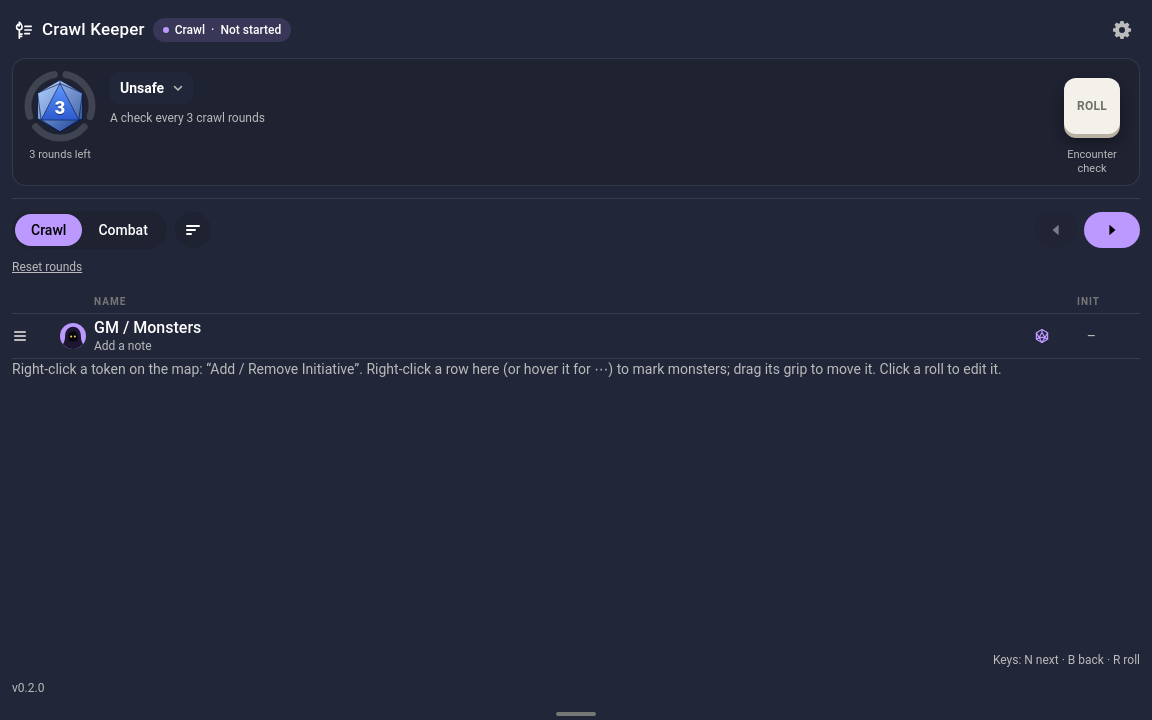
Tracker (GM) › the crawl card › sits in the top bar with the title, not in the list; not there in Settings
The image size is (1152, 720).
Expected: the header named "Encounter checks" shows "Crawl Keeper", [42,19,145,39]
Step 1. Click the button named "Settings" → click(1122, 30), box [1104,12,1140,48]
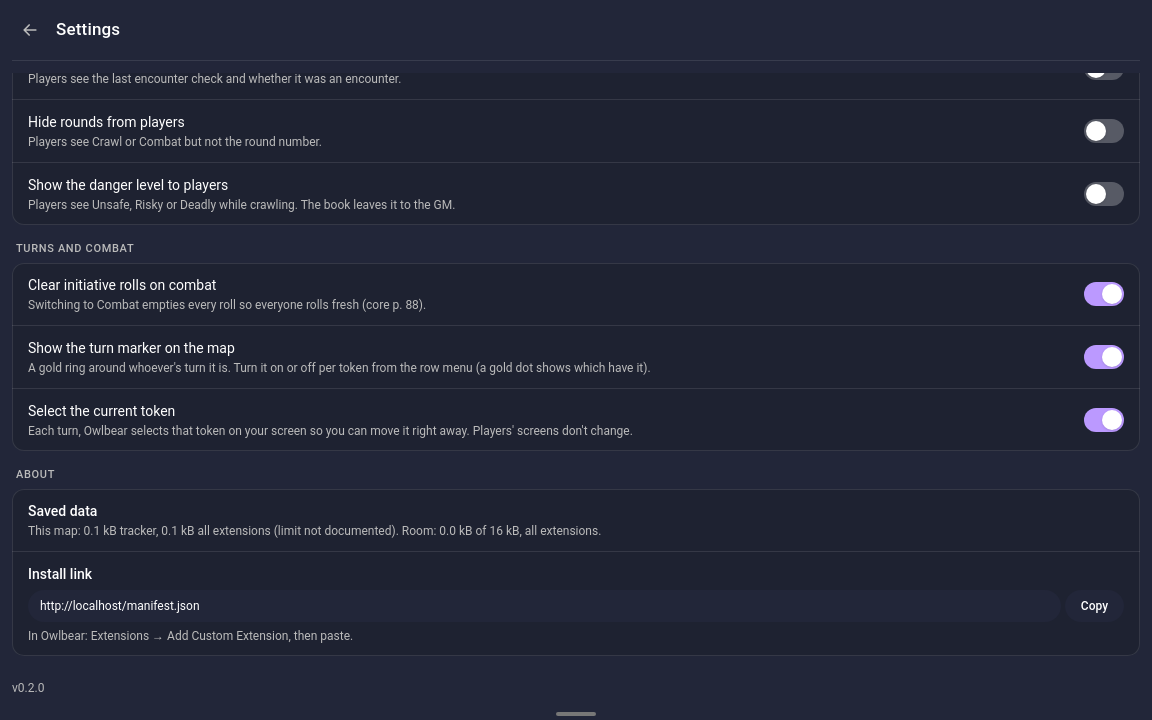
Result: the text "Saved data" is shown at [28,502,97,518]
